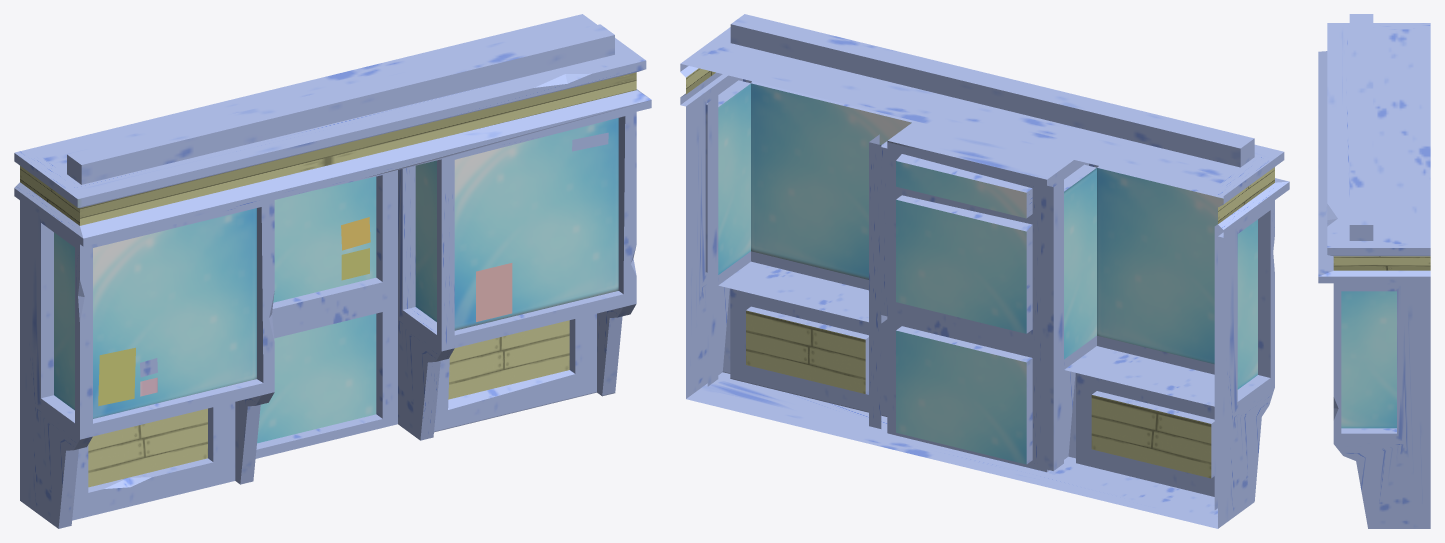
File: House_Front_03_edit2.fbx
The picture shows the model from 3 angles, left to right: view 1: azimuth 30°, elevation 25°; view 2: azimuth 150°, elevation 25°; view 3: azimuth 270°, elevation 25°; orthographic projection. The views are drawn at different scales.
Parts seen in each view (by area): view 1: SM_Bld_Shop_04_Glass.001; view 2: SM_Bld_Shop_04_Glass.001; view 3: SM_Bld_Shop_04_Glass.001.
Part boxes in pixels (bbox=[...]): SM_Bld_Shop_04_Glass.001: bbox=[14, 14, 651, 528]; SM_Bld_Shop_04_Glass.001: bbox=[680, 14, 1289, 528]; SM_Bld_Shop_04_Glass.001: bbox=[1318, 14, 1430, 528].
Bounding box in the file's own units: 511 × 317 × 108.
